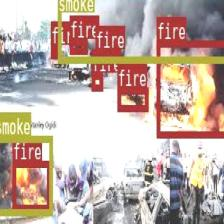fire: (156, 40, 224, 136), (12, 160, 50, 210), (118, 86, 148, 110), (69, 39, 86, 53), (94, 48, 108, 63), (91, 72, 102, 90), (50, 44, 58, 57)
smoke: (58, 0, 224, 62), (0, 135, 51, 213)
